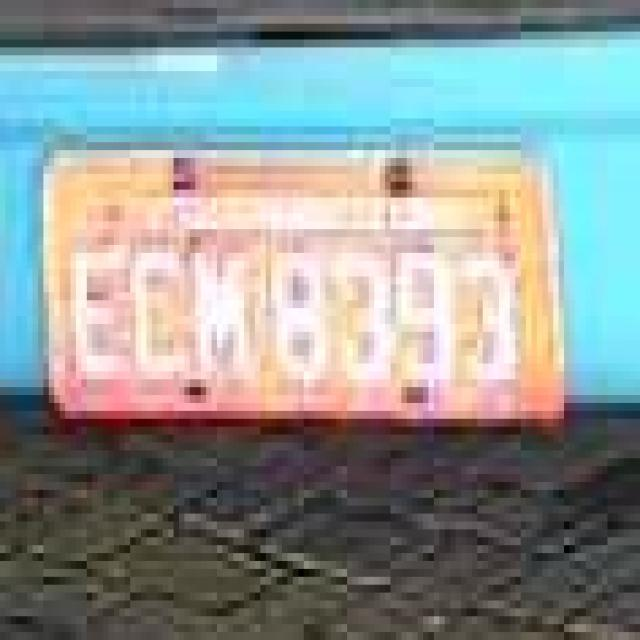3: (459, 247, 523, 383), (339, 238, 395, 386)
8: (272, 250, 326, 392)
9: (400, 232, 460, 387)
E: (65, 222, 128, 379), (132, 240, 184, 380)
M: (197, 237, 259, 379)
